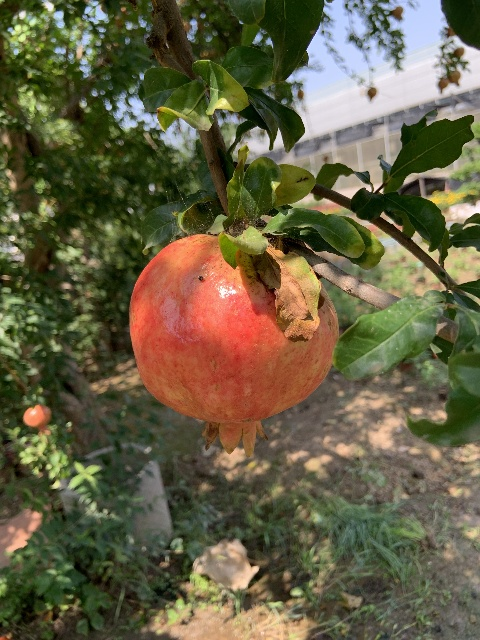ripe: (129, 233, 338, 456), (23, 404, 51, 436)
